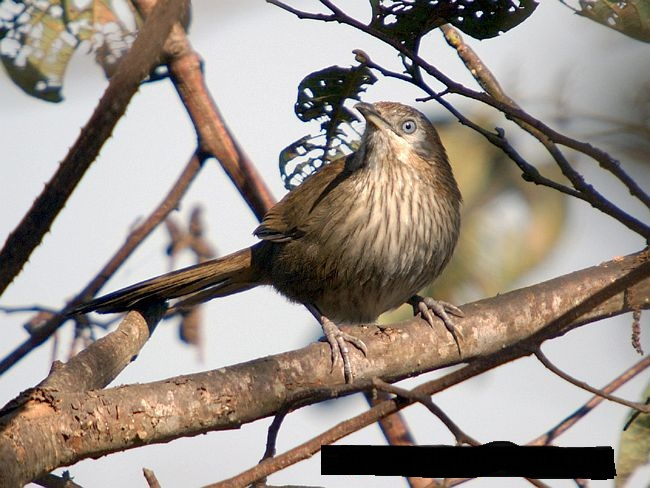bird: (57, 88, 489, 393)
